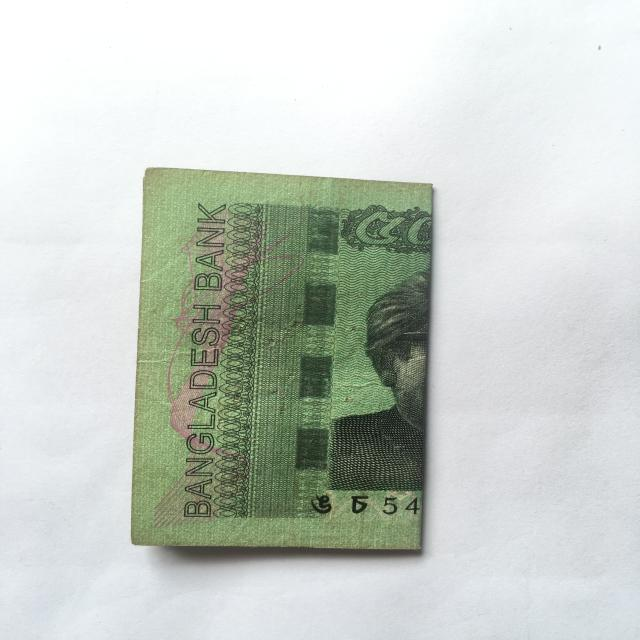Taka: (133, 162, 438, 558)
